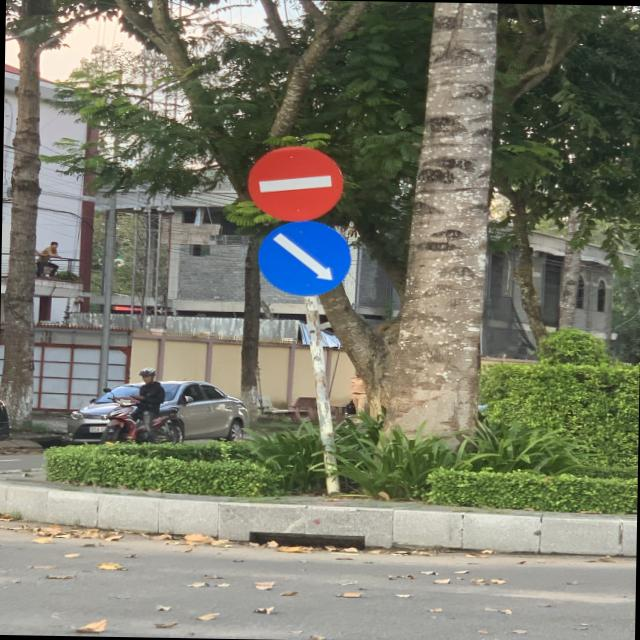Cam_Di_Nguoc_Chieu: (246, 144, 344, 221)
Chi_Huong_Di_Phai: (258, 220, 350, 296)
